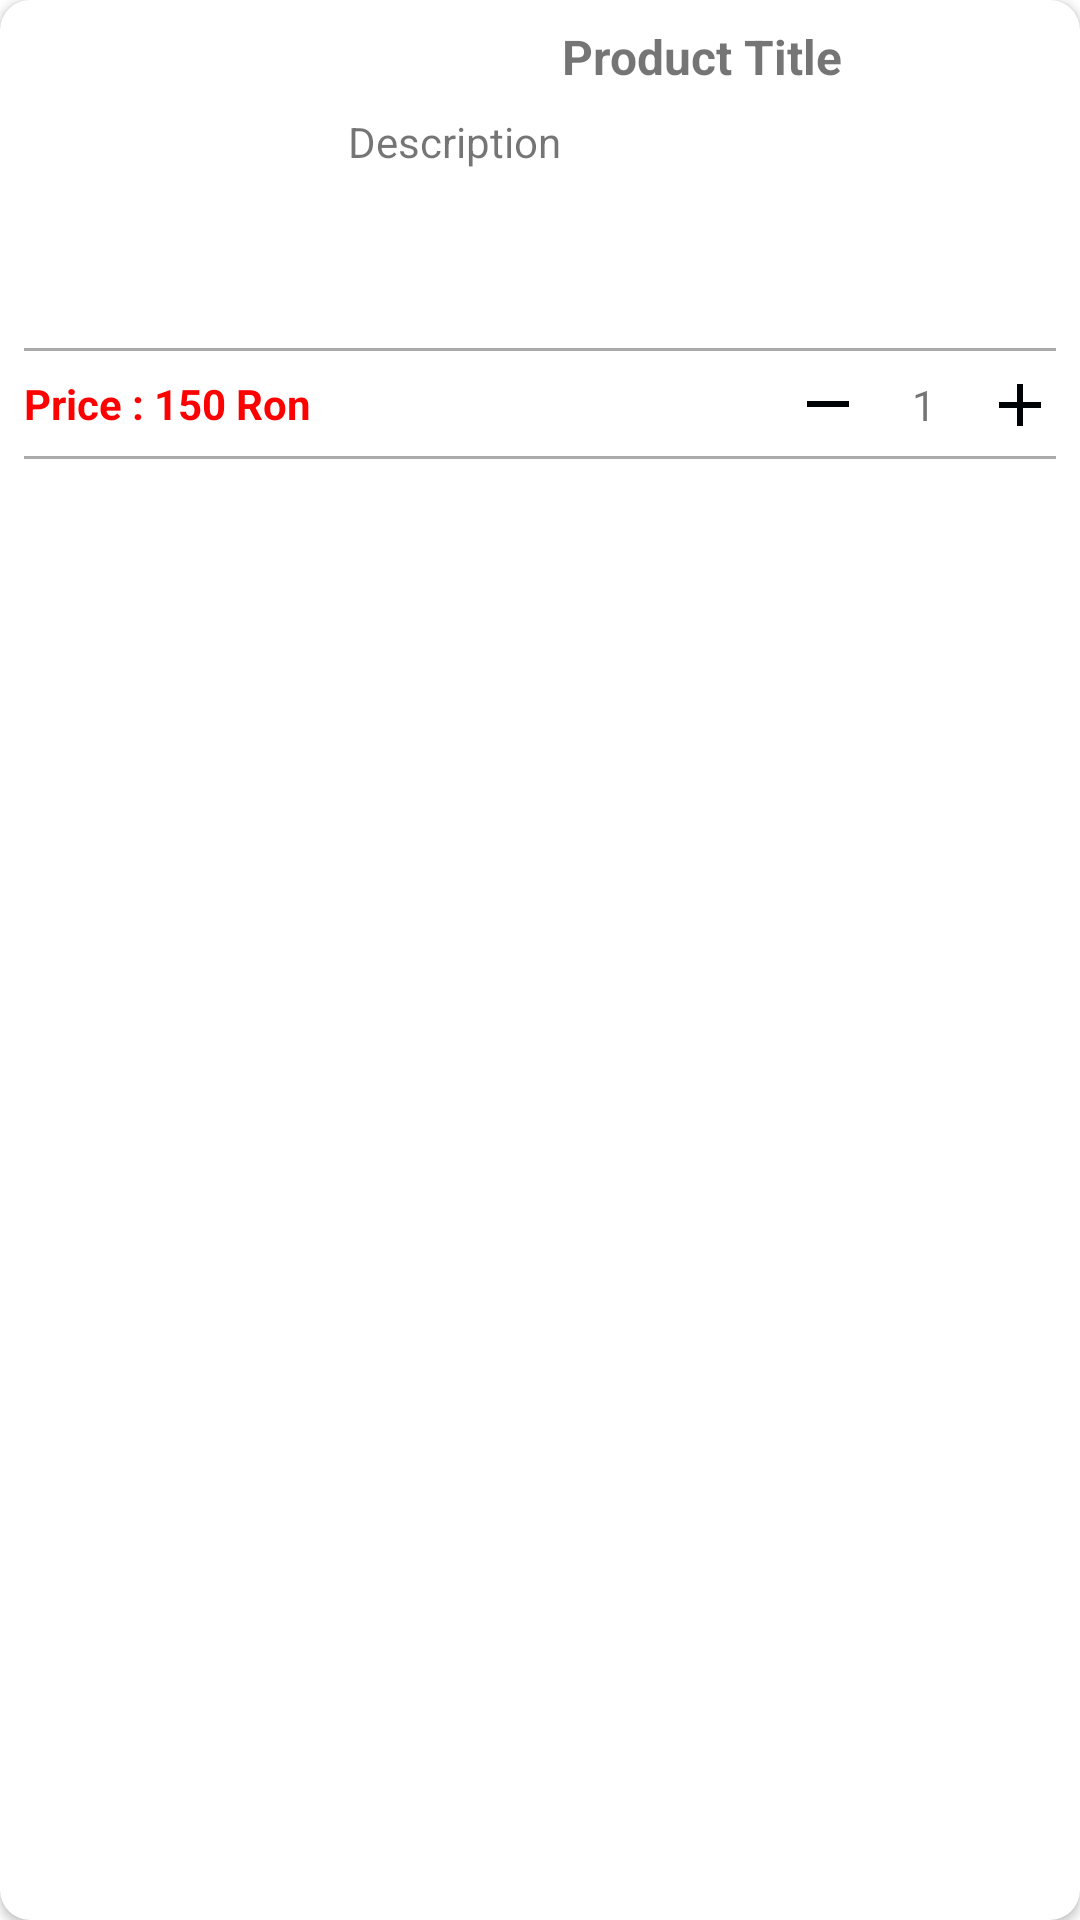

Where to tap for icons on this 1080*1920 app screen, as [x,y]:
Increment Image Button: [1020,405]
